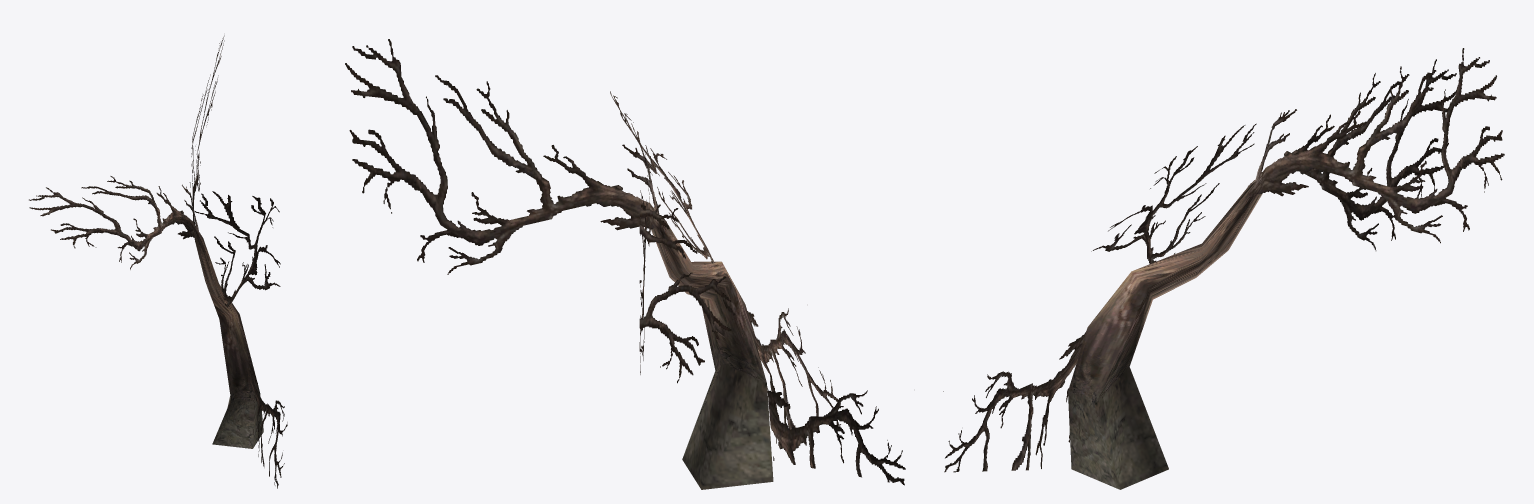
The model's file is burningmidtree01.obj.
The picture shows the model from 3 angles, left to right: view 1: azimuth 30°, elevation 25°; view 2: azimuth 150°, elevation 25°; view 3: azimuth 270°, elevation 25°; orthographic projection. The views are drawn at different scales.
Visible parts, largest first — view 1: BURNINGMIDTREE011, BURNINGMIDTREE010; view 2: BURNINGMIDTREE011, BURNINGMIDTREE010; view 3: BURNINGMIDTREE011, BURNINGMIDTREE010.
Part boxes in pixels (x1=…): BURNINGMIDTREE011: x1=29, y1=35, x2=287, y2=488; BURNINGMIDTREE010: x1=193, y1=226, x2=263, y2=448; BURNINGMIDTREE011: x1=345, y1=39, x2=905, y2=485; BURNINGMIDTREE010: x1=651, y1=222, x2=773, y2=489; BURNINGMIDTREE011: x1=943, y1=48, x2=1504, y2=472; BURNINGMIDTREE010: x1=1068, y1=176, x2=1263, y2=489.
Size of the model in its own units: 5.79 by 8.05 by 7.9.
2 materials, 2 textured.
